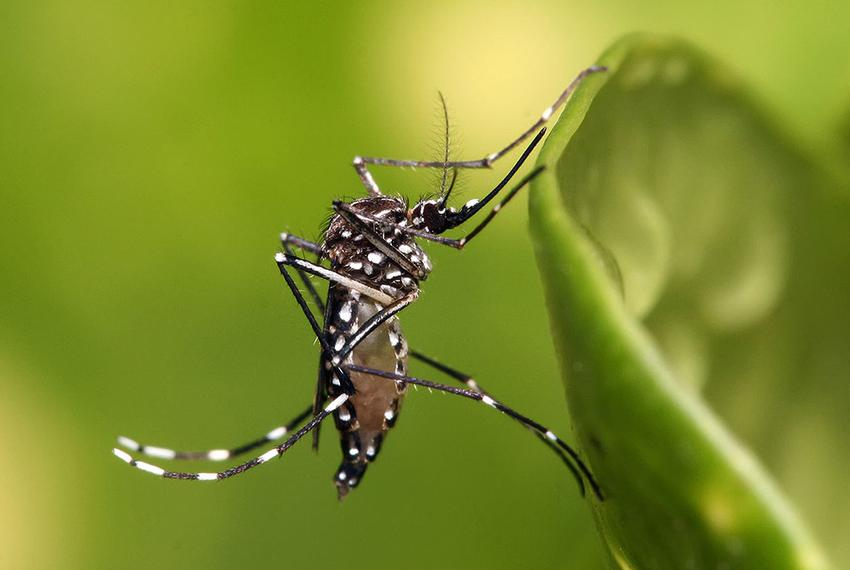dengue_mosquito: (112, 59, 597, 501)
